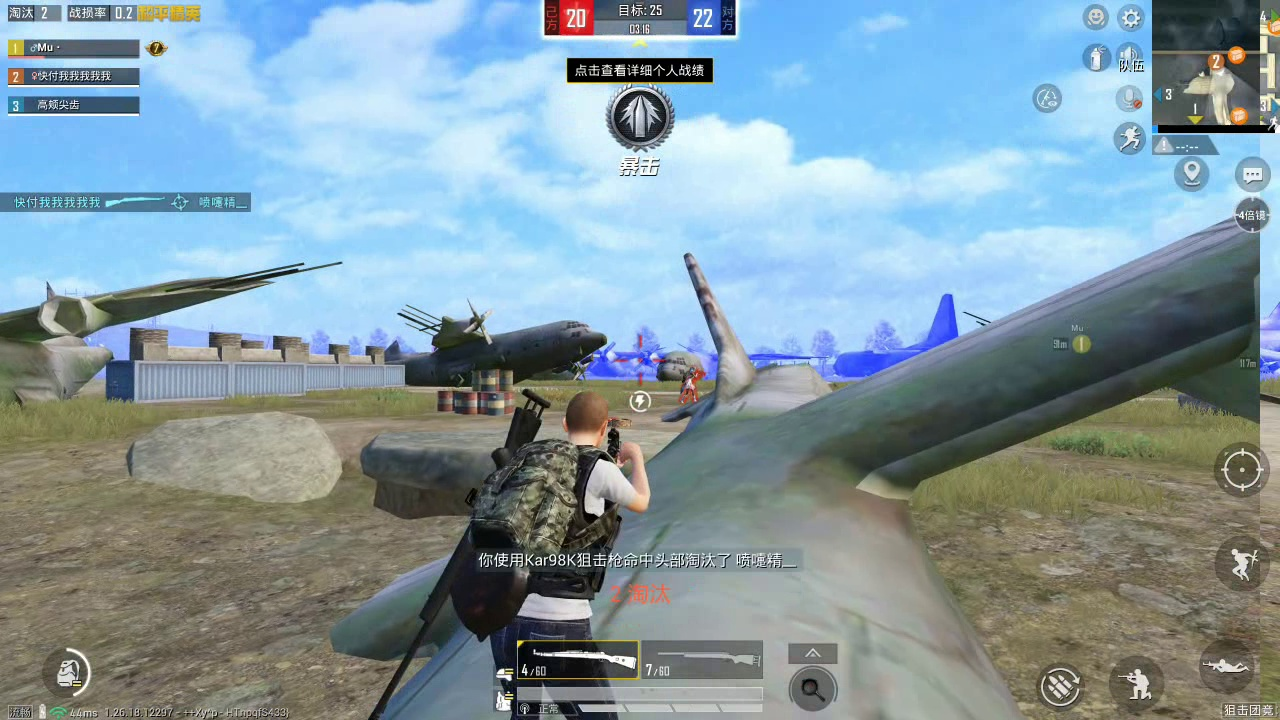enemy: (678, 363, 704, 401)
